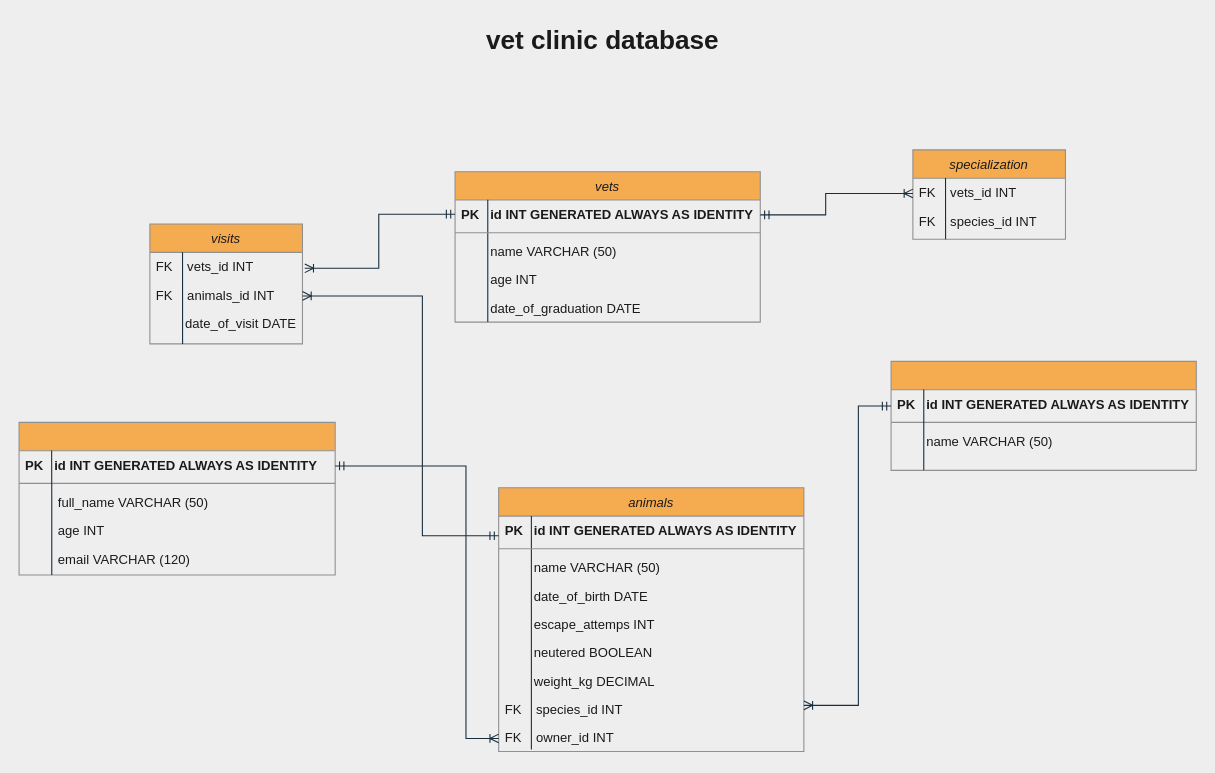
The diagram is 1215 pixels wide and 773 high, and some of its shapes have lost their labels. The shapes that lost their labels are listed below. From the top down, each one's box as (x1, y1, x2, y2) in pixels, then its label:
(890, 360, 1196, 470): species
(18, 421, 335, 575): owners
